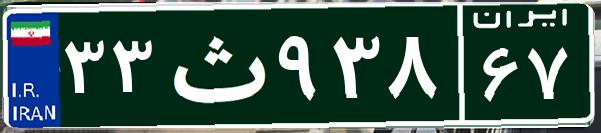3: (330, 28, 385, 110), (57, 26, 110, 107), (110, 28, 158, 105)
6: (475, 38, 525, 113)
7: (525, 38, 570, 115)
8: (385, 28, 445, 110)
9: (273, 28, 330, 110)
ث: (158, 15, 273, 115)
